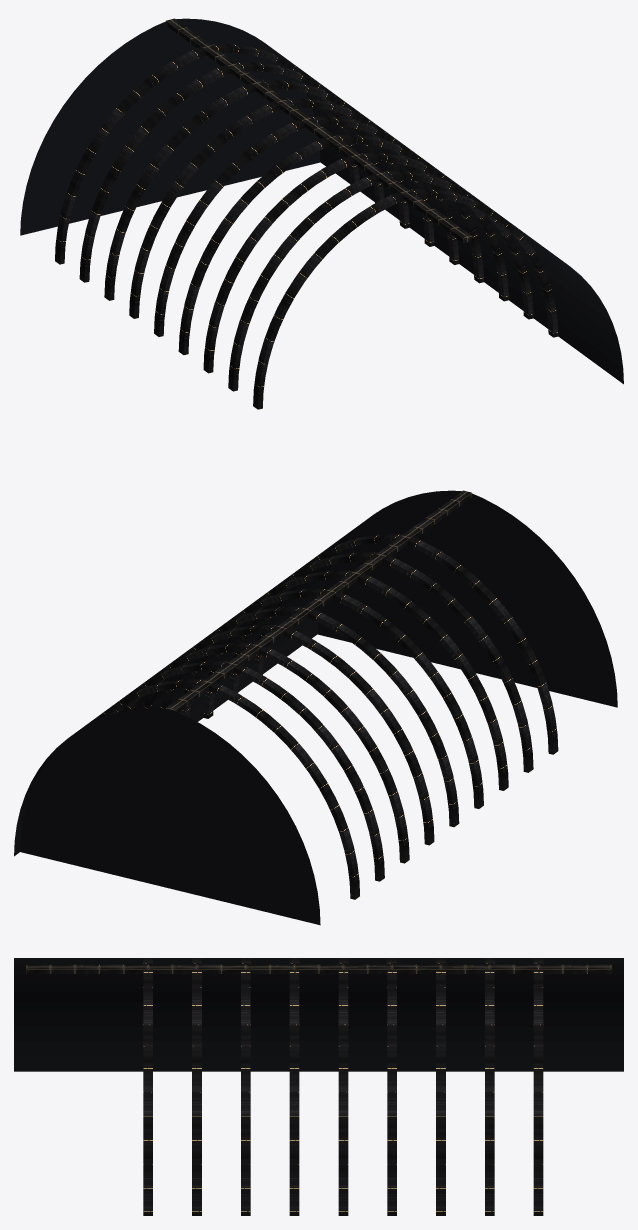
Rendered from BossHallCeiling.fbx.
The picture shows the model from 3 angles, top to bottom: view 1: azimuth 30°, elevation 25°; view 2: azimuth 150°, elevation 25°; view 3: azimuth 270°, elevation 25°; orthographic projection.
Parts seen in each view (by area): view 1: Gable, Vault, Rib.004, Rib.008, Rib.003, Rib.007, Rib.002, Rib.006, Rib.001, Rib.005, Rib, RidgeRib; view 2: Gable, Gable.001, Vault, Rib.003, Rib.004, Rib.008, Rib.007, Rib.002, RidgeRib, Rib.006, Rib.001, Rib (+1 smaller); view 3: Vault, RidgeRib, Rib, Rib.002, Rib.007, Rib.001, Rib.003, Rib.004, Rib.005, Rib.006, Rib.008.
Boxes of the visible parts, left/top/right/bottom form: Gable: left=20, top=18, right=320, bottom=235; Vault: left=261, top=40, right=623, bottom=384; Rib.004: left=253, top=189, right=558, bottom=409; Rib.008: left=228, top=171, right=533, bottom=391; Rib.003: left=203, top=153, right=508, bottom=373; Rib.007: left=178, top=134, right=483, bottom=355; Rib.002: left=154, top=116, right=459, bottom=336; Rib.006: left=129, top=98, right=434, bottom=318; Rib.001: left=104, top=80, right=409, bottom=300; Rib.005: left=79, top=62, right=384, bottom=282; Rib: left=55, top=44, right=359, bottom=264; RidgeRib: left=166, top=18, right=471, bottom=242; Gable: left=20, top=708, right=320, bottom=925; Gable.001: left=317, top=490, right=617, bottom=707; Vault: left=14, top=512, right=376, bottom=856; Rib.003: left=203, top=570, right=508, bottom=790; Rib.004: left=253, top=534, right=558, bottom=754; Rib.008: left=228, top=552, right=533, bottom=772; Rib.007: left=180, top=588, right=483, bottom=808; Rib.002: left=160, top=606, right=459, bottom=827; RidgeRib: left=166, top=490, right=471, bottom=714; Rib.006: left=141, top=625, right=434, bottom=845; Rib.001: left=124, top=643, right=409, bottom=863; Rib: left=94, top=679, right=359, bottom=899; Vault: left=14, top=958, right=623, bottom=1071; RidgeRib: left=26, top=964, right=611, bottom=973; Rib: left=533, top=958, right=543, bottom=1215; Rib.002: left=338, top=958, right=348, bottom=1215; Rib.007: left=289, top=958, right=299, bottom=1215; Rib.001: left=436, top=958, right=445, bottom=1215; Rib.003: left=241, top=958, right=250, bottom=1215; Rib.004: left=143, top=958, right=152, bottom=1215; Rib.005: left=485, top=958, right=494, bottom=1215; Rib.006: left=387, top=958, right=396, bottom=1215; Rib.008: left=192, top=958, right=201, bottom=1215.
Size of the model in its own units: 2800 by 5000 by 1600.
Materials: 2 (2 with a texture image).
